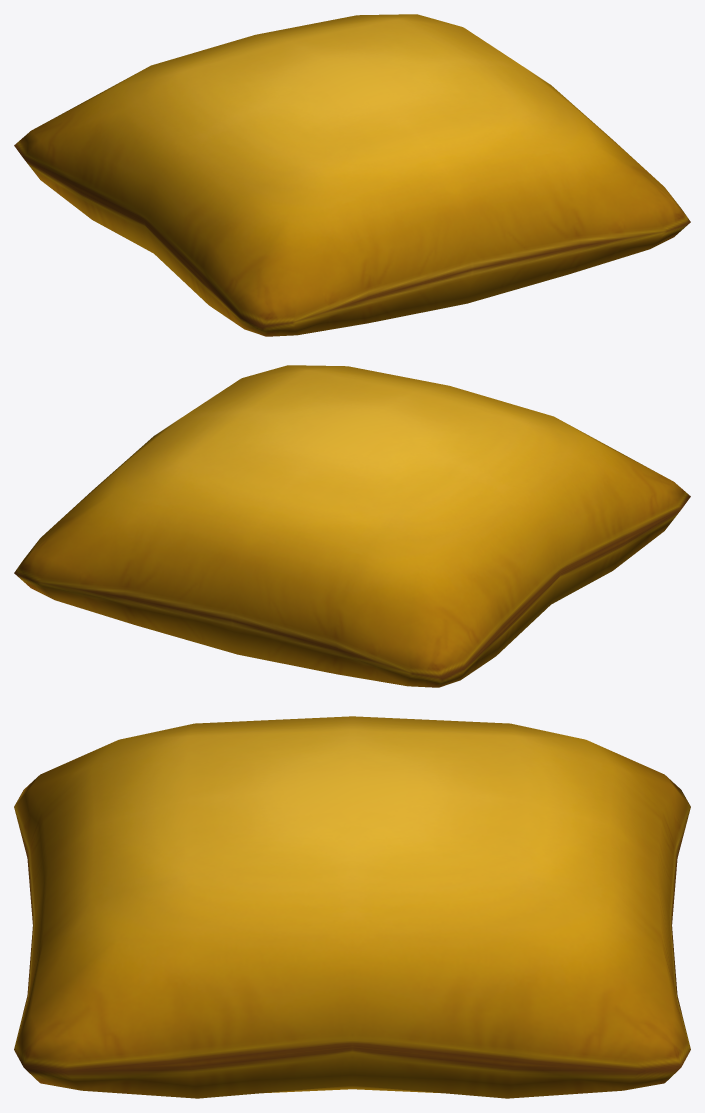
The model's file is jia_zuodian.FBX.
3 renders of one model, top to bottom at view 1: azimuth 30°, elevation 25°; view 2: azimuth 150°, elevation 25°; view 3: azimuth 270°, elevation 25°, orthographic. The views are drawn at different scales.
Visible parts, largest first — view 1: jia_zuodian; view 2: jia_zuodian; view 3: jia_zuodian.
Part boxes in pixels (box(x1,y1,x2,y2)): jia_zuodian: box(14, 14, 690, 336); jia_zuodian: box(14, 365, 690, 687); jia_zuodian: box(14, 716, 690, 1098).
Size of the model in its own units: 92.81 by 31.68 by 92.81.
